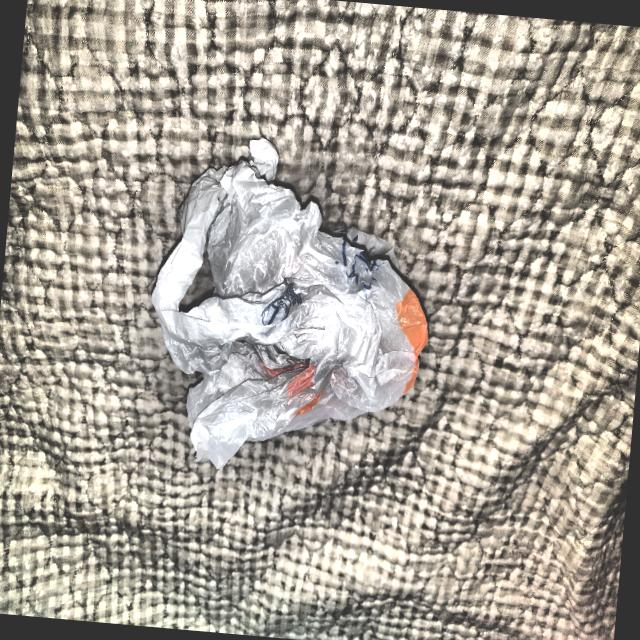plastic bag: (126, 120, 453, 505)
